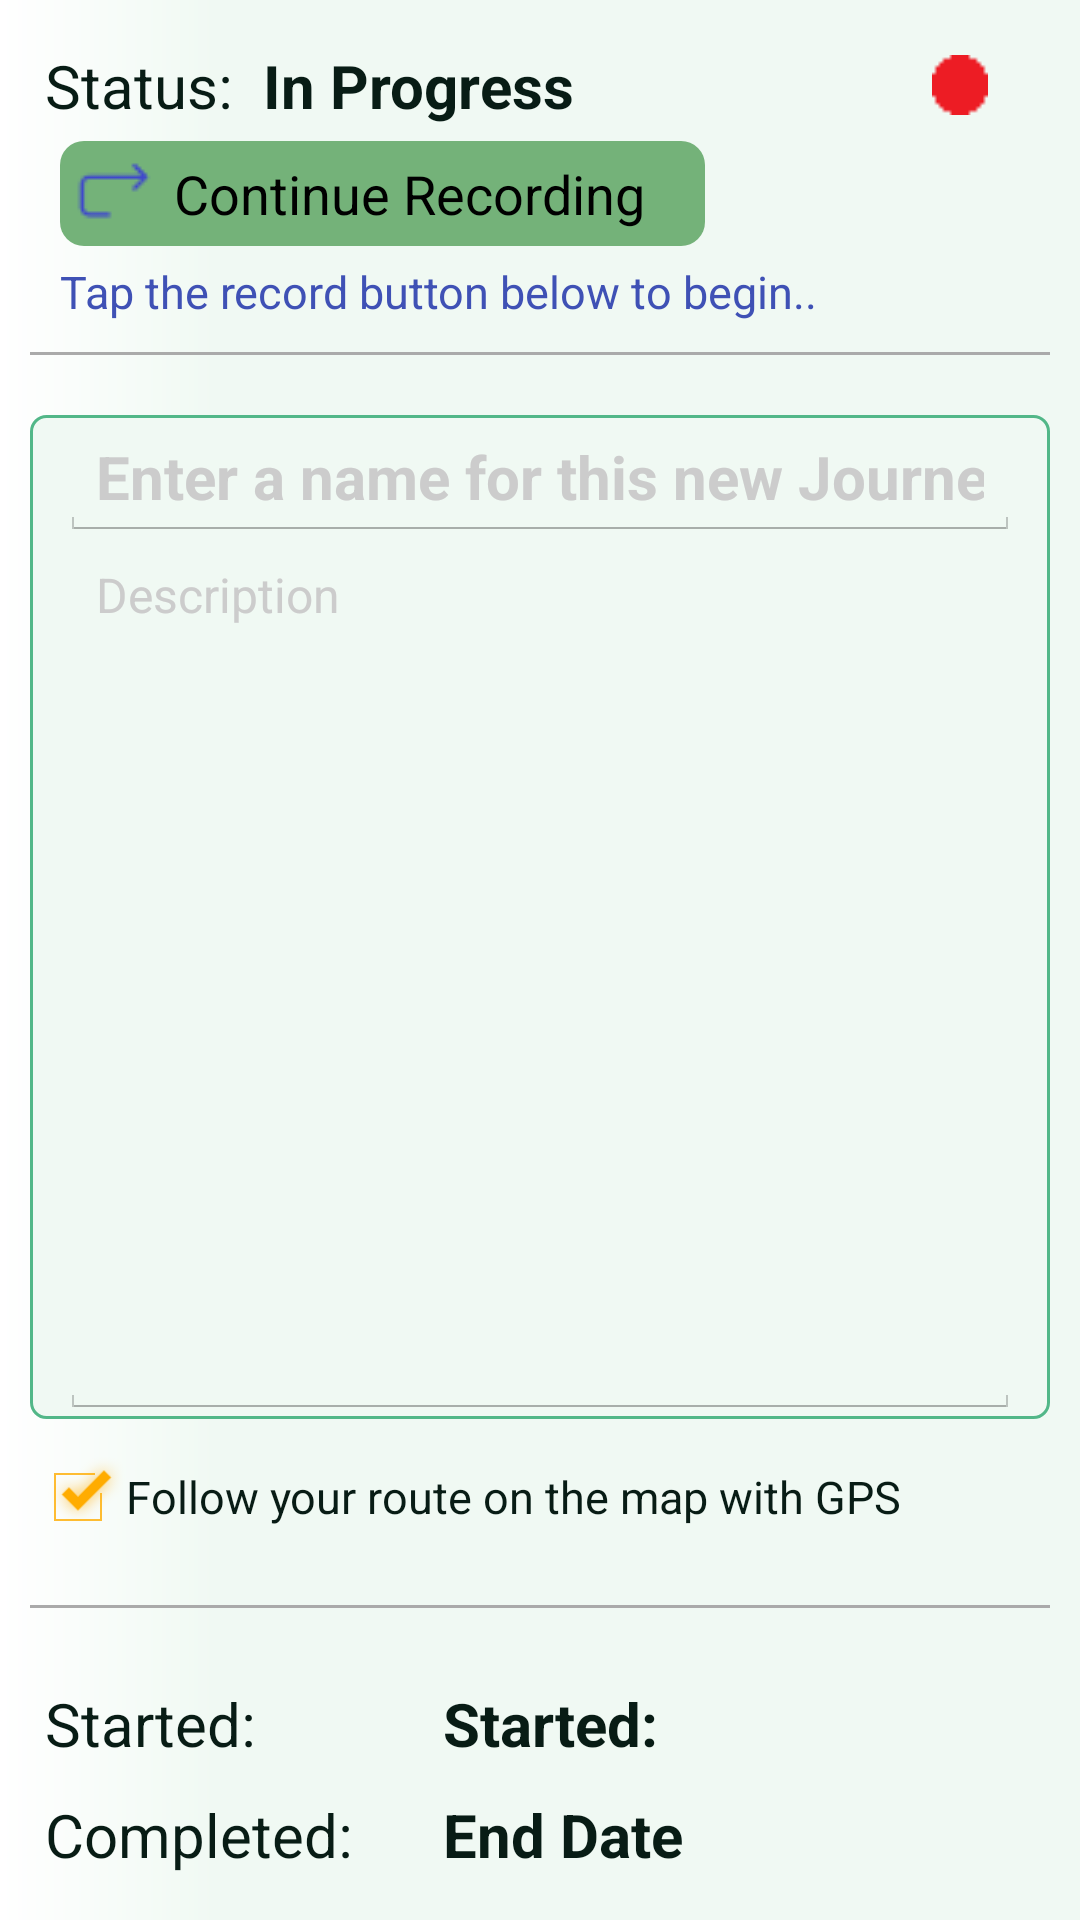

Where to tap for icons on this 1080w x 1920h app screen, as (x,y):
recording: (960,85)
